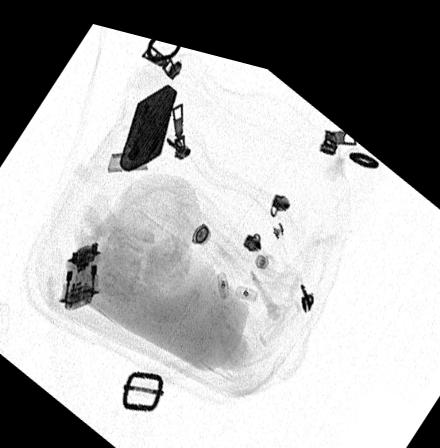Lighter: (119, 75, 179, 165)
